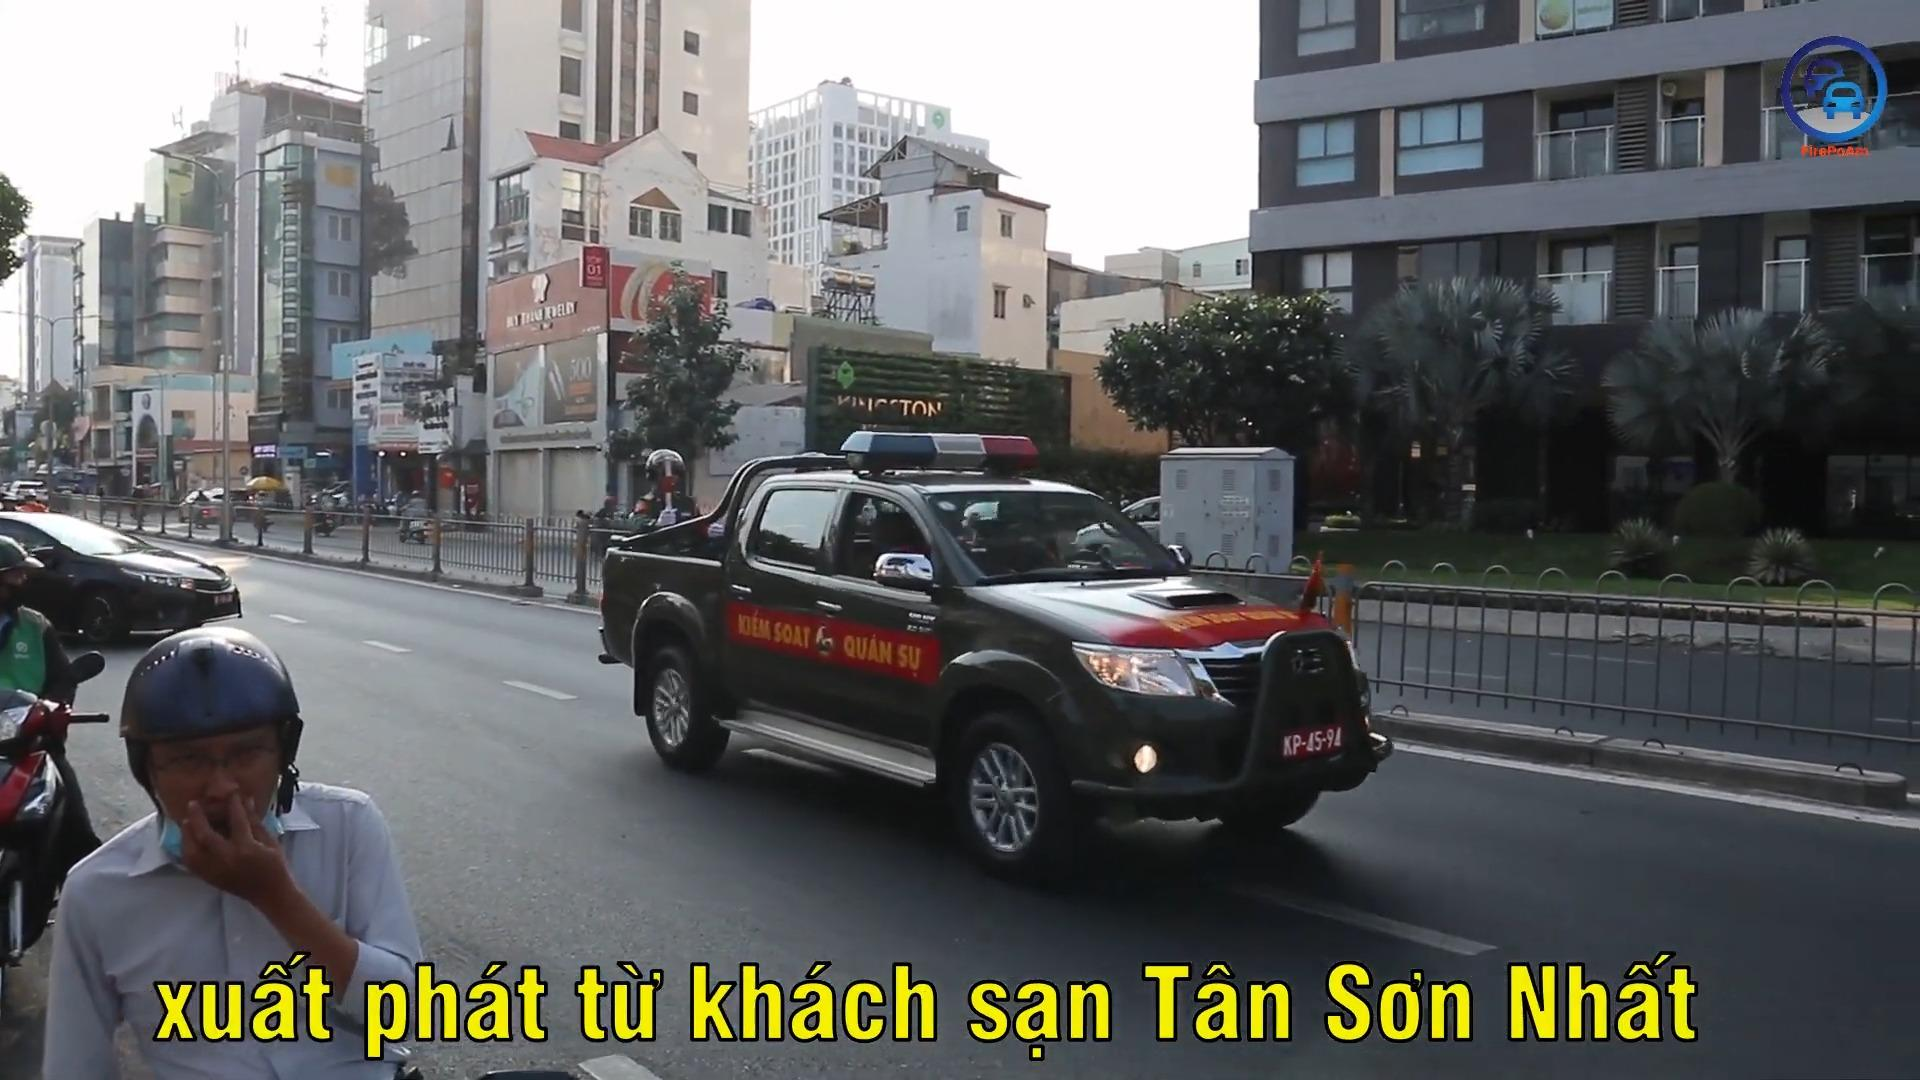bien_so: (1277, 719, 1345, 762)
